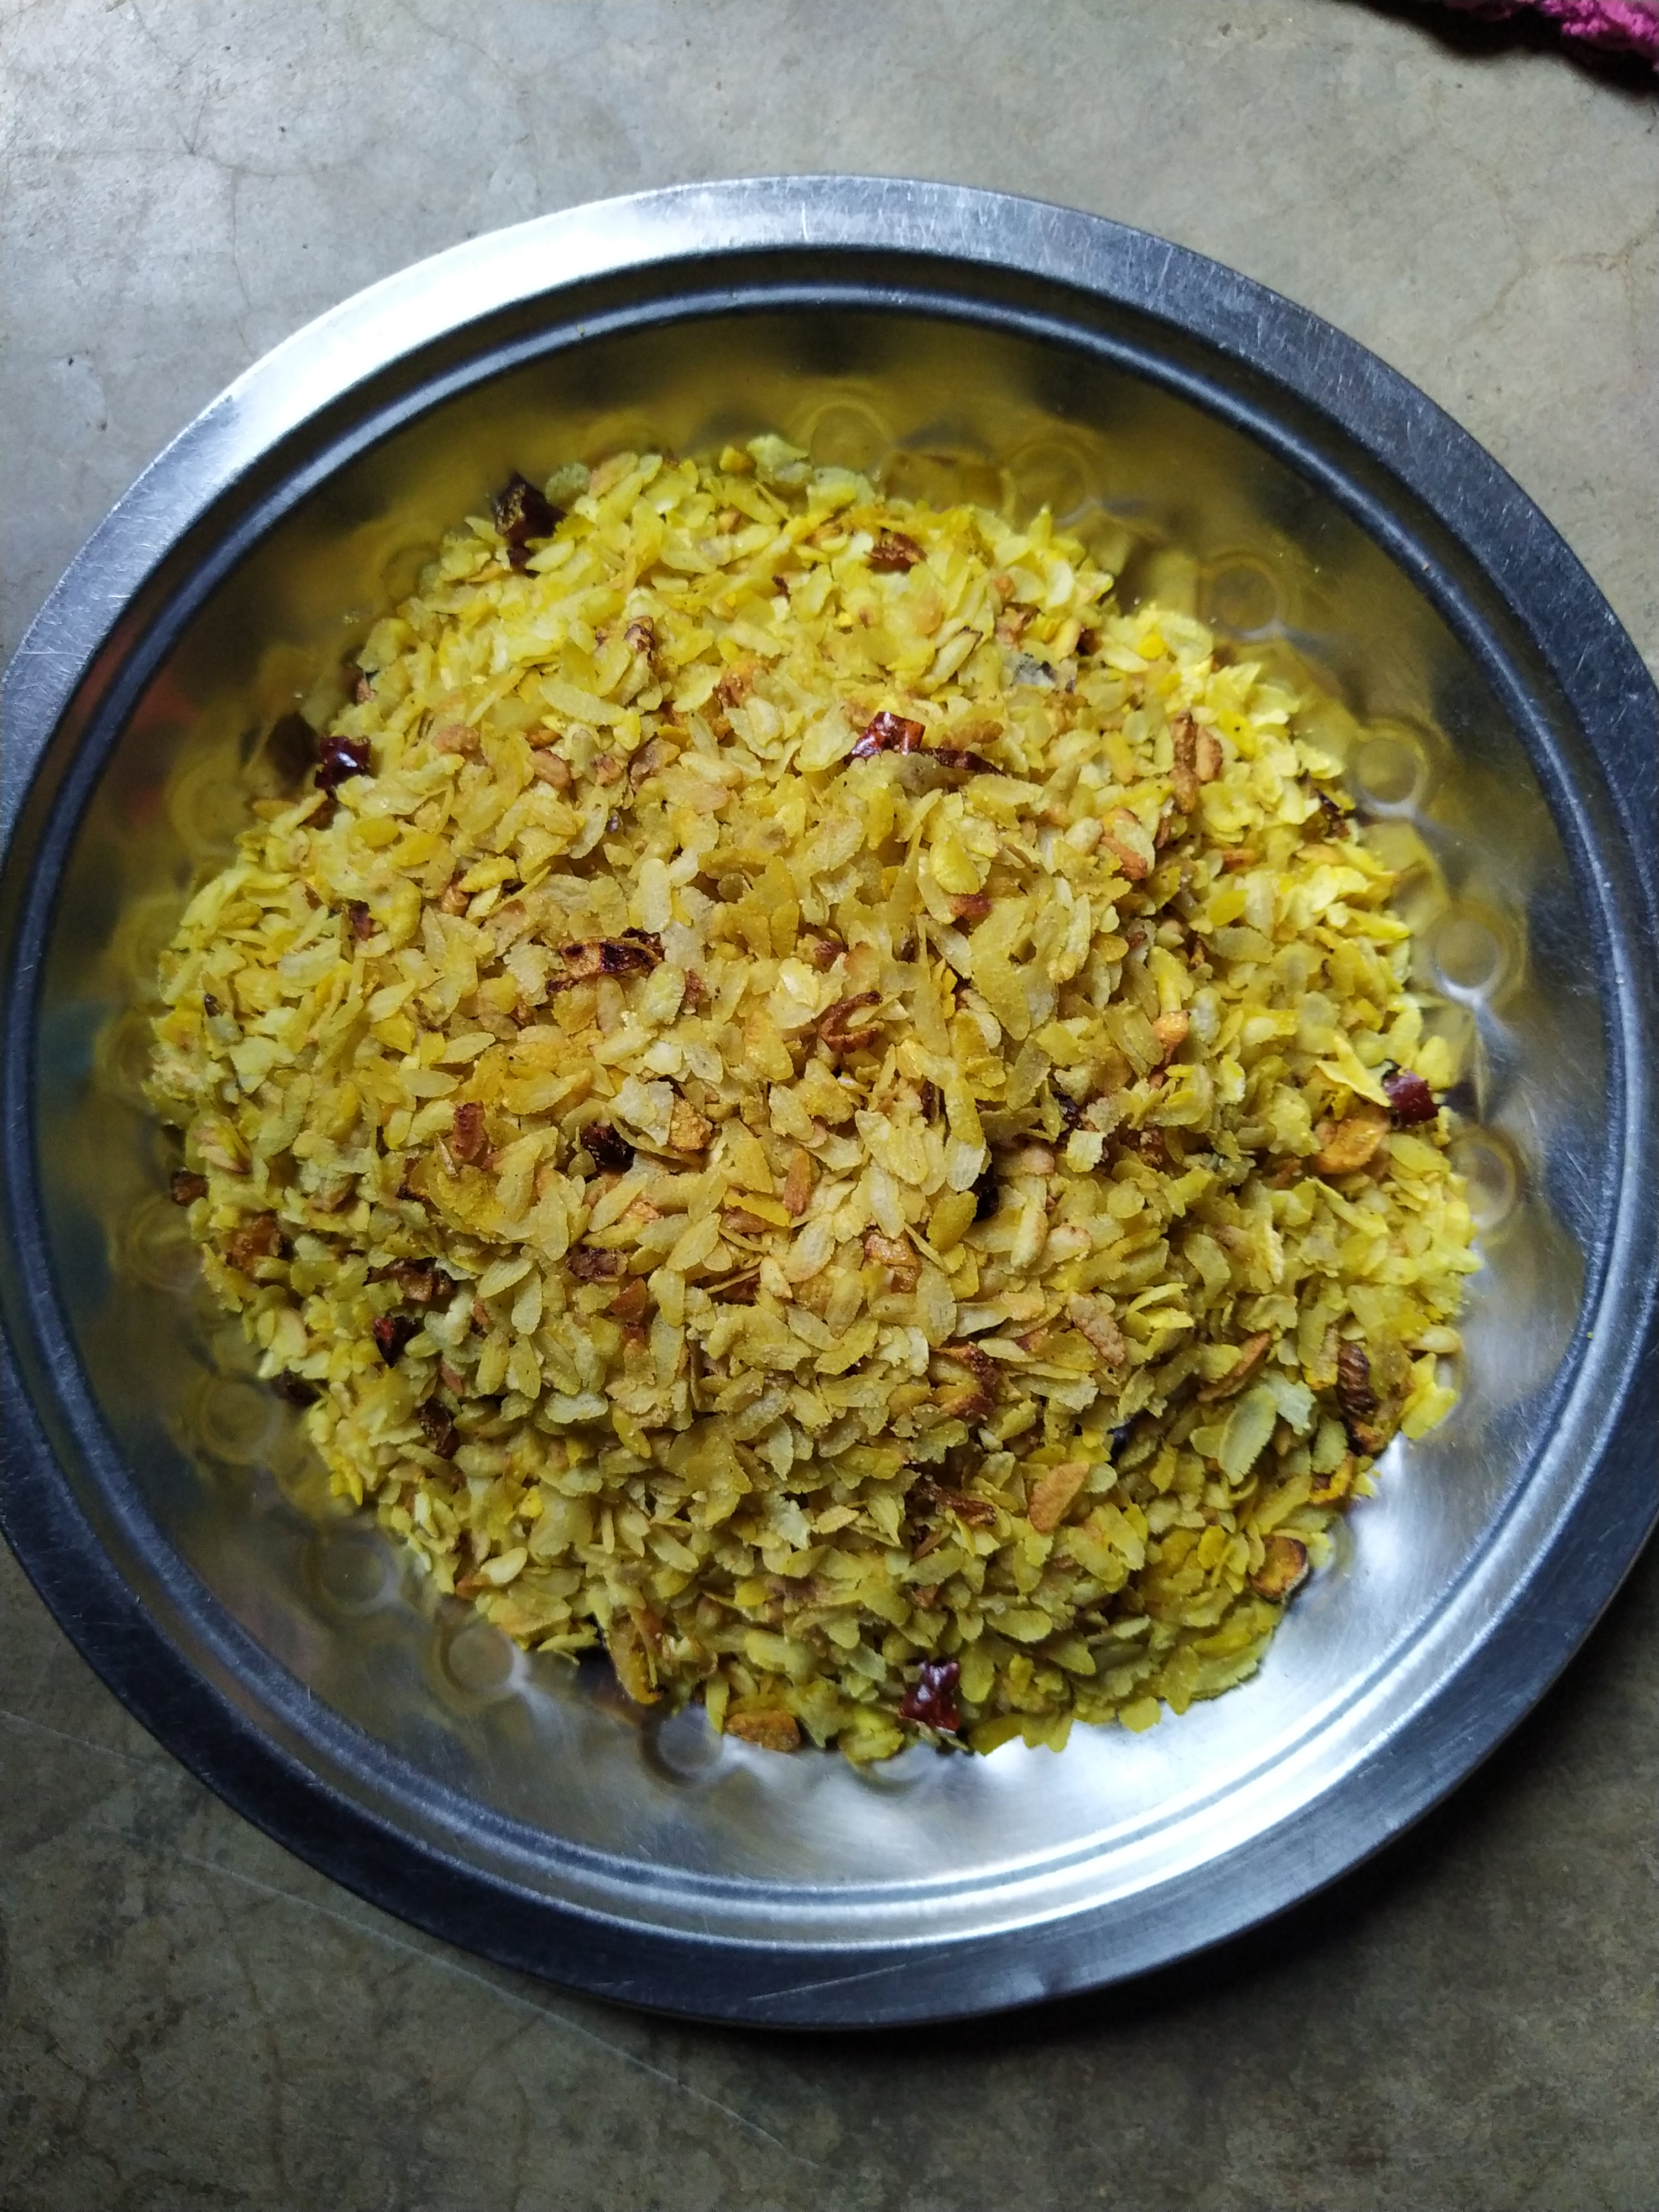food: (125, 413, 1486, 1775)
